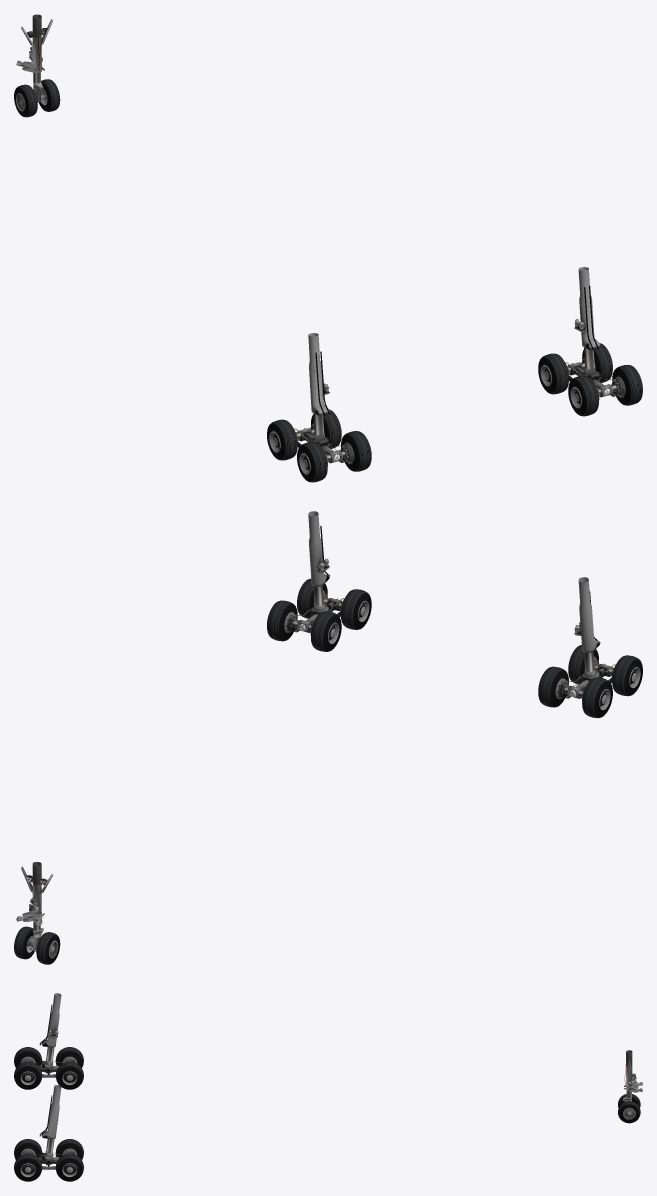
3 renders of one model, top to bottom at view 1: azimuth 30°, elevation 25°; view 2: azimuth 150°, elevation 25°; view 3: azimuth 270°, elevation 25°, orthographic. The views are drawn at different scales.
Visible parts, largest first — view 1: tyres.right.back, tyres.left.back, tyres.right.front, tyres.left.front, left.strut.up, tyres, right.strut.up, front.strut.high, left.strut.low, right.strut.low; view 2: tyres.left.front, tyres.right.front, tyres.right.back, tyres.left.back, tyres, right.strut.up, left.strut.up, front.strut.high, left.strut.low, right.strut.low; view 3: tyres.left.back, tyres.right.back, tyres.right.front, tyres.left.front, right.strut.up, left.strut.up, tyres, front.strut.high.
Boxes of the visible parts, left/top/right/bottom form: tyres.right.back: left=568, top=365, right=642, bottom=416; tyres.left.back: left=297, top=431, right=371, bottom=482; tyres.right.front: left=538, top=343, right=612, bottom=394; tyres.left.front: left=267, top=409, right=341, bottom=460; left.strut.up: left=308, top=333, right=329, bottom=415; tyres: left=14, top=79, right=60, bottom=117; right.strut.up: left=574, top=267, right=600, bottom=350; front.strut.high: left=16, top=14, right=52, bottom=72; left.strut.low: left=294, top=424, right=352, bottom=466; right.strut.low: left=565, top=358, right=623, bottom=399; tyres.left.front: left=538, top=666, right=612, bottom=718; tyres.right.front: left=267, top=600, right=341, bottom=651; tyres.right.back: left=297, top=578, right=371, bottom=629; tyres.left.back: left=568, top=645, right=642, bottom=696; tyres: left=14, top=926, right=60, bottom=964; right.strut.up: left=308, top=511, right=329, bottom=586; left.strut.up: left=574, top=577, right=600, bottom=652; front.strut.high: left=16, top=862, right=52, bottom=926; left.strut.low: left=557, top=659, right=615, bottom=701; right.strut.low: left=286, top=593, right=344, bottom=635; tyres.left.back: left=14, top=1047, right=42, bottom=1089; tyres.right.back: left=14, top=1139, right=42, bottom=1181; tyres.right.front: left=55, top=1139, right=83, bottom=1181; tyres.left.front: left=55, top=1047, right=83, bottom=1089; right.strut.up: left=39, top=1085, right=61, bottom=1139; left.strut.up: left=39, top=993, right=61, bottom=1047; tyres: left=618, top=1094, right=640, bottom=1123; front.strut.high: left=624, top=1050, right=642, bottom=1092.
Size of the model in its own units: 13.15 by 4.76 by 31.22.
1 material, 1 textured.
